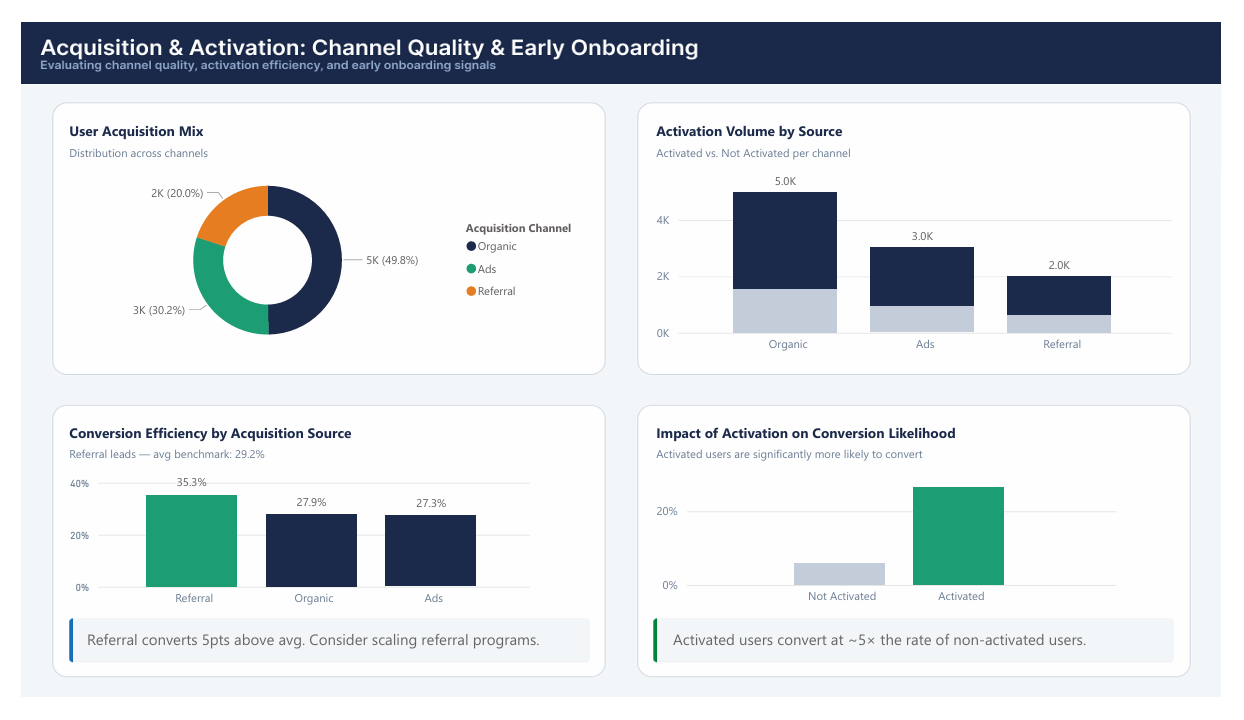

Layout of this report page (visuals, bound fields, positions):
{"tool":"powerbi","page":{"name":"Acquisition & Activation","canvas":[1280,720],"ordinal":1},"visuals":[{"type":"clusteredColumnChart","title":"Conversion Efficiency by Acquisition Source","fields":{"Category":["saas_funnel_cleaned.acquisition_channel"],"Y":["saas_funnel_cleaned.Conversion Rate"]},"box":[46.2,427.1,500.6,204.9],"z":0},{"type":"donutChart","title":"User Acquisition Mix","fields":{"Category":["saas_funnel_cleaned.acquisition_channel"],"Y":["saas_funnel_cleaned.Total Users"]},"box":[46.2,105.3,559.8,255.4],"z":1000},{"type":"clusteredColumnChart","title":"Impact of Activation on Conversion Likelihood","fields":{"Y":["saas_funnel_cleaned.Conversion Rate by Activation"],"Category":["saas_funnel_cleaned.Activation Status"]},"box":[672.3,427.1,500.6,203.4],"z":2000},{"type":"columnChart","title":"Activation Volume by Source","fields":{"Category":["saas_funnel_cleaned.acquisition_channel"],"Y":["saas_funnel_cleaned.Total Users"],"Series":["saas_funnel_cleaned.is_activated"]},"box":[672.3,105.3,560,255.4],"z":3000},{"type":"textbox","box":[64.9,642,510.7,53.4],"z":4000},{"type":"textbox","box":[689.6,642,492,40.4],"z":5000}]}

Visuals, with their boxes in screenshot pixels (x1, y1, x2, y2), scaled from the page's 1280x720 canvas onto the 1244x720 screenshot:
"Conversion Efficiency by Acquisition Source" clusteredColumnChart: locate(45, 427, 531, 632)
"User Acquisition Mix" donutChart: locate(45, 105, 589, 361)
"Impact of Activation on Conversion Likelihood" clusteredColumnChart: locate(653, 427, 1140, 630)
"Activation Volume by Source" columnChart: locate(653, 105, 1198, 361)
textbox: locate(63, 642, 559, 695)
textbox: locate(670, 642, 1148, 682)
